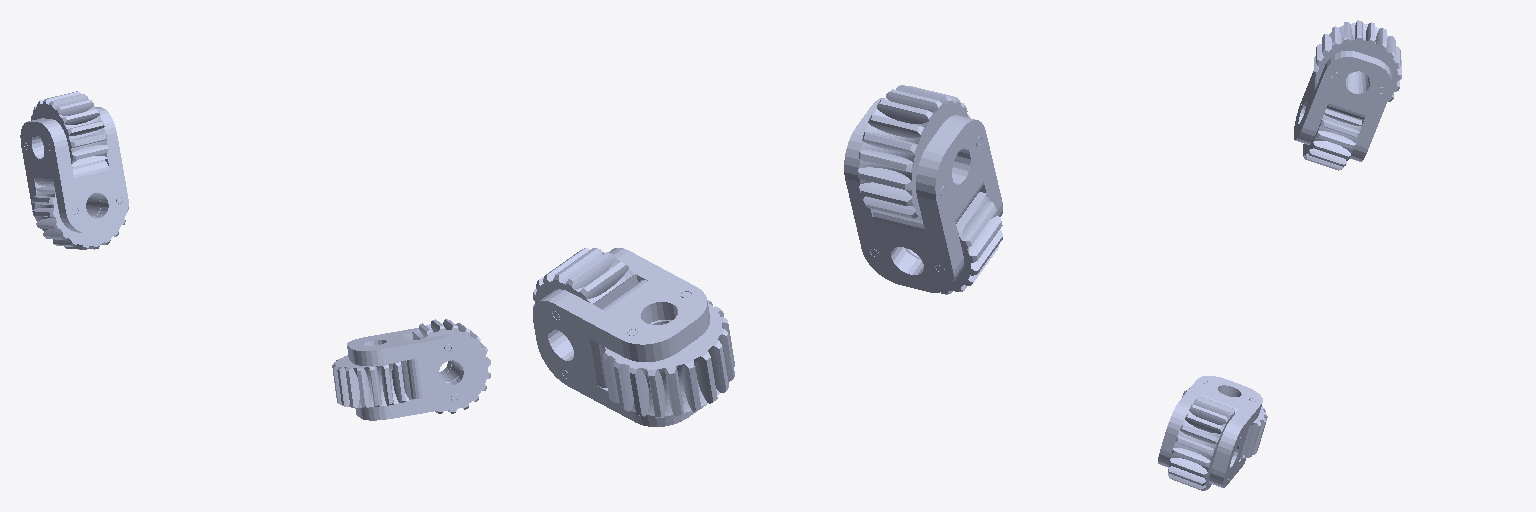
URDF robot description (HX01P1.2_URDF_2025_04_25_3):
<?xml version="1.0" encoding="utf-8"?>
<!-- This URDF was automatically created by SolidWorks to URDF Exporter! Originally created by [author] ([email redacted]) 
     Commit Version: 1.6.0-4-g7f85cfe  Build Version: 1.6.7995.38578
     For more information, please see http://wiki.ros.org/sw_urdf_exporter -->
<robot
  name="HX01P1.2_URDF_2025_04_25_3">
  <link
    name="base_link">
    <inertial>
      <origin
        xyz="-0.000143215433818502 0.0141338183242651 0.0442242892247222"
        rpy="0 0 0" />
      <mass
        value="0.411547465045791" />
      <inertia
        ixx="0.000457197745587714"
        ixy="-1.68236950016942E-05"
        ixz="-3.7829378099296E-06"
        iyy="0.000457189352520218"
        iyz="-0.000116176459874552"
        izz="0.000424192913814888" />
    </inertial>
    <visual>
      <origin
        xyz="0 0 0"
        rpy="0 0 0" />
      <geometry>
        <mesh
          filename="package://HX01P1.2_URDF_2025_04_25_3/meshes/base_link.STL" />
      </geometry>
      <material
        name="">
        <color
          rgba="0.101960784313725 0.101960784313725 0.101960784313725 1" />
      </material>
    </visual>
    <collision>
      <origin
        xyz="0 0 0"
        rpy="0 0 0" />
      <geometry>
        <mesh
          filename="package://HX01P1.2_URDF_2025_04_25_3/meshes/base_link.STL" />
      </geometry>
    </collision>
  </link>
  <link
    name="Finger1_MCP_Knuckel">
    <inertial>
      <origin
        xyz="0.00622692032838282 -0.00186429833300747 -4.94180068935646E-07"
        rpy="0 0 0" />
      <mass
        value="0.00436139838731622" />
      <inertia
        ixx="1.43474995442807E-07"
        ixy="4.90538082519748E-09"
        ixz="-5.0499675317499E-12"
        iyy="1.58377829536194E-07"
        iyz="8.28884757571336E-13"
        izz="1.59847556799014E-07" />
    </inertial>
    <visual>
      <origin
        xyz="0 0 0"
        rpy="0 0 0" />
      <geometry>
        <mesh
          filename="package://HX01P1.2_URDF_2025_04_25_3/meshes/Finger1_MCP_Knuckel.STL" />
      </geometry>
      <material
        name="">
        <color
          rgba="0.792156862745098 0.819607843137255 0.933333333333333 1" />
      </material>
    </visual>
    <collision>
      <origin
        xyz="0 0 0"
        rpy="0 0 0" />
      <geometry>
        <mesh
          filename="package://HX01P1.2_URDF_2025_04_25_3/meshes/Finger1_MCP_Knuckel.STL" />
      </geometry>
    </collision>
  </link>
  <joint
    name="joint#1_finger1_abad"
    type="revolute">
    <origin
      xyz="0.03 -0.00029814 0.050502"
      rpy="-0.2618 0 0" />
    <parent
      link="base_link" />
    <child
      link="Finger1_MCP_Knuckel" />
    <axis
      xyz="0 0 -1" />
    <limit
      lower="0"
      upper="1.4"
      effort="0"
      velocity="0" />
  </joint>
  <link
    name="Finger1_Proxi_Phalanx">
    <inertial>
      <origin
        xyz="8.03838731414271E-06 0.00199707444538672 0.0237369300504709"
        rpy="0 0 0" />
      <mass
        value="0.0202104831192896" />
      <inertia
        ixx="5.321271983334E-06"
        ixy="5.67331900582626E-10"
        ixz="2.38532838362171E-09"
        iyy="5.27227646915779E-06"
        iyz="9.63561735563733E-07"
        izz="2.75411859519785E-06" />
    </inertial>
    <visual>
      <origin
        xyz="0 0 0"
        rpy="0 0 0" />
      <geometry>
        <mesh
          filename="package://HX01P1.2_URDF_2025_04_25_3/meshes/Finger1_Proxi_Phalanx.STL" />
      </geometry>
      <material
        name="">
        <color
          rgba="0.792156862745098 0.819607843137255 0.933333333333333 1" />
      </material>
    </visual>
    <collision>
      <origin
        xyz="0 0 0"
        rpy="0 0 0" />
      <geometry>
        <mesh
          filename="package://HX01P1.2_URDF_2025_04_25_3/meshes/Finger1_Proxi_Phalanx.STL" />
      </geometry>
    </collision>
  </link>
  <joint
    name="joint#2_finger1_flex1"
    type="revolute">
    <origin
      xyz="0.012454 -0.0037276 0"
      rpy="-1.5708 0 -1.8616" />
    <parent
      link="Finger1_MCP_Knuckel" />
    <child
      link="Finger1_Proxi_Phalanx" />
    <axis
      xyz="1 0 0" />
    <limit
      lower="0"
      upper="2.1"
      effort="0"
      velocity="0" />
  </joint>
  <link
    name="Finger1_Dist_Phalanx">
    <inertial>
      <origin
        xyz="4.96788824266431E-05 -0.015858943696615 -0.0112156159807297"
        rpy="0 0 0" />
      <mass
        value="0.0176550775282583" />
      <inertia
        ixx="4.02686195586541E-06"
        ixy="8.87267349994332E-09"
        ixz="-4.88974539150869E-09"
        iyy="3.29025829246226E-06"
        iyz="-1.24019316269407E-06"
        izz="2.60041228704037E-06" />
    </inertial>
    <visual>
      <origin
        xyz="0 0 0"
        rpy="0 0 0" />
      <geometry>
        <mesh
          filename="package://HX01P1.2_URDF_2025_04_25_3/meshes/Finger1_Dist_Phalanx.STL" />
      </geometry>
      <material
        name="">
        <color
          rgba="0.792156862745098 0.819607843137255 0.933333333333333 1" />
      </material>
    </visual>
    <collision>
      <origin
        xyz="0 0 0"
        rpy="0 0 0" />
      <geometry>
        <mesh
          filename="package://HX01P1.2_URDF_2025_04_25_3/meshes/Finger1_Dist_Phalanx.STL" />
      </geometry>
    </collision>
  </link>
  <joint
    name="joint#3_finger1_flex2"
    type="revolute">
    <origin
      xyz="0 -0.014373 0.064593"
      rpy="-1.2747 0 0" />
    <parent
      link="Finger1_Proxi_Phalanx" />
    <child
      link="Finger1_Dist_Phalanx" />
    <axis
      xyz="-1 0 0" />
    <limit
      lower="0"
      upper="2.1"
      effort="0"
      velocity="0" />
  </joint>
  <link
    name="Finger2_Proxi_Phalanx">
    <inertial>
      <origin
        xyz="8.04448574115088E-06 0.0091375125667262 0.0219985390127726"
        rpy="0 0 0" />
      <mass
        value="0.020210475315763" />
      <inertia
        ixx="5.32127733054558E-06"
        ixy="1.26416201137071E-09"
        ixz="2.09727817015594E-09"
        iyy="5.59777205951082E-06"
        iyz="5.34444272839263E-08"
        izz="2.42862435983311E-06" />
    </inertial>
    <visual>
      <origin
        xyz="0 0 0"
        rpy="0 0 0" />
      <geometry>
        <mesh
          filename="package://HX01P1.2_URDF_2025_04_25_3/meshes/Finger2_Proxi_Phalanx.STL" />
      </geometry>
      <material
        name="">
        <color
          rgba="0.792156862745098 0.819607843137255 0.933333333333333 1" />
      </material>
    </visual>
    <collision>
      <origin
        xyz="0 0 0"
        rpy="0 0 0" />
      <geometry>
        <mesh
          filename="package://HX01P1.2_URDF_2025_04_25_3/meshes/Finger2_Proxi_Phalanx.STL" />
      </geometry>
    </collision>
  </link>
  <joint
    name="joint#4_finger2_flex1"
    type="revolute">
    <origin
      xyz="0.03 0.027125 0.10334"
      rpy="-0.34907 0 0" />
    <parent
      link="base_link" />
    <child
      link="Finger2_Proxi_Phalanx" />
    <axis
      xyz="1 0 0" />
    <limit
      lower="0"
      upper="2.1"
      effort="0"
      velocity="0" />
  </joint>
  <link
    name="Finger2_Dist_Phalanx">
    <inertial>
      <origin
        xyz="4.96543147745637E-05 0.00714087589106065 0.0180640063475071"
        rpy="0 0 0" />
      <mass
        value="0.017655175308132" />
      <inertia
        ixx="4.02689920264768E-06"
        ixy="-1.01046485372328E-08"
        ixz="-7.46802878445245E-10"
        iyy="4.21968941110657E-06"
        iyz="-1.82117885239304E-07"
        izz="1.67102281536553E-06" />
    </inertial>
    <visual>
      <origin
        xyz="0 0 0"
        rpy="0 0 0" />
      <geometry>
        <mesh
          filename="package://HX01P1.2_URDF_2025_04_25_3/meshes/Finger2_Dist_Phalanx.STL" />
      </geometry>
      <material
        name="">
        <color
          rgba="0.792156862745098 0.819607843137255 0.933333333333333 1" />
      </material>
    </visual>
    <collision>
      <origin
        xyz="0 0 0"
        rpy="0 0 0" />
      <geometry>
        <mesh
          filename="package://HX01P1.2_URDF_2025_04_25_3/meshes/Finger2_Dist_Phalanx.STL" />
      </geometry>
    </collision>
  </link>
  <joint
    name="joint#5_finger2_flex2"
    type="revolute">
    <origin
      xyz="0 0.006 0.0659"
      rpy="0 0 0" />
    <parent
      link="Finger2_Proxi_Phalanx" />
    <child
      link="Finger2_Dist_Phalanx" />
    <axis
      xyz="-1 0 0" />
    <limit
      lower="0"
      upper="2.1"
      effort="0"
      velocity="0" />
  </joint>
  <link
    name="Finger3_MCP_Knuckel">
    <inertial>
      <origin
        xyz="4.9575760330961E-07 4.95757603160424E-07 0.00650000000000001"
        rpy="0 0 0" />
      <mass
        value="0.00436140331617378" />
      <inertia
        ixx="1.59847453396862E-07"
        ixy="-7.49873788616636E-13"
        ixz="-5.07470404925745E-12"
        iyy="1.59847453396862E-07"
        iyz="5.0747040492625E-12"
        izz="1.42005296546262E-07" />
    </inertial>
    <visual>
      <origin
        xyz="0 0 0"
        rpy="0 0 0" />
      <geometry>
        <mesh
          filename="package://HX01P1.2_URDF_2025_04_25_3/meshes/Finger3_MCP_Knuckel.STL" />
      </geometry>
      <material
        name="">
        <color
          rgba="0.792156862745098 0.819607843137255 0.933333333333333 1" />
      </material>
    </visual>
    <collision>
      <origin
        xyz="0 0 0"
        rpy="0 0 0" />
      <geometry>
        <mesh
          filename="package://HX01P1.2_URDF_2025_04_25_3/meshes/Finger3_MCP_Knuckel.STL" />
      </geometry>
    </collision>
  </link>
  <joint
    name="joint#6_finger3_abad"
    type="revolute">
    <origin
      xyz="-0.024 0.022678 0.091124"
      rpy="-0.34907 0 0" />
    <parent
      link="base_link" />
    <child
      link="Finger3_MCP_Knuckel" />
    <axis
      xyz="0 1 0" />
    <limit
      lower="-0.79"
      upper="0.26"
      effort="0"
      velocity="0" />
  </joint>
  <link
    name="Finger3_Proxi_Phalanx">
    <inertial>
      <origin
        xyz="8.04117973510904E-06 0.0100165249953892 0.0216124776566759"
        rpy="0 0 0" />
      <mass
        value="0.0202104720704891" />
      <inertia
        ixx="5.32127708117865E-06"
        ixy="1.34776056207348E-09"
        ixz="2.04474931025202E-09"
        iyy="5.59692981103583E-06"
        iyz="-7.4326508231126E-08"
        izz="2.42946644189107E-06" />
    </inertial>
    <visual>
      <origin
        xyz="0 0 0"
        rpy="0 0 0" />
      <geometry>
        <mesh
          filename="package://HX01P1.2_URDF_2025_04_25_3/meshes/Finger3_Proxi_Phalanx.STL" />
      </geometry>
      <material
        name="">
        <color
          rgba="0.792156862745098 0.819607843137255 0.933333333333333 1" />
      </material>
    </visual>
    <collision>
      <origin
        xyz="0 0 0"
        rpy="0 0 0" />
      <geometry>
        <mesh
          filename="package://HX01P1.2_URDF_2025_04_25_3/meshes/Finger3_Proxi_Phalanx.STL" />
      </geometry>
    </collision>
  </link>
  <joint
    name="joint#7_finger3_flex1"
    type="revolute">
    <origin
      xyz="0 0 0.013"
      rpy="0 0 0" />
    <parent
      link="Finger3_MCP_Knuckel" />
    <child
      link="Finger3_Proxi_Phalanx" />
    <axis
      xyz="1 0 0" />
    <limit
      lower="0"
      upper="2.1"
      effort="0"
      velocity="0" />
  </joint>
  <link
    name="Finger3_Dist_Phalanx">
    <inertial>
      <origin
        xyz="4.96543147664001E-05 0.00640718478870799 0.0183370776542784"
        rpy="0 0 0" />
      <mass
        value="0.017655175308132" />
      <inertia
        ixx="4.02689920264773E-06"
        ixy="-1.00663492422049E-08"
        ixz="-1.15336444118466E-09"
        iyy="4.23021615454477E-06"
        iyz="-7.89110412665249E-08"
        izz="1.66049607192739E-06" />
    </inertial>
    <visual>
      <origin
        xyz="0 0 0"
        rpy="0 0 0" />
      <geometry>
        <mesh
          filename="package://HX01P1.2_URDF_2025_04_25_3/meshes/Finger3_Dist_Phalanx.STL" />
      </geometry>
      <material
        name="">
        <color
          rgba="0.792156862745098 0.819607843137255 0.933333333333333 1" />
      </material>
    </visual>
    <collision>
      <origin
        xyz="0 0 0"
        rpy="0 0 0" />
      <geometry>
        <mesh
          filename="package://HX01P1.2_URDF_2025_04_25_3/meshes/Finger3_Dist_Phalanx.STL" />
      </geometry>
    </collision>
  </link>
  <joint
    name="joint#8_finger3_flex2"
    type="revolute">
    <origin
      xyz="0 0.0086506 0.065605"
      rpy="-0.040306 0 0" />
    <parent
      link="Finger3_Proxi_Phalanx" />
    <child
      link="Finger3_Dist_Phalanx" />
    <axis
      xyz="-1 0 0" />
    <limit
      lower="0"
      upper="2.1"
      effort="0"
      velocity="0" />
  </joint>
</robot>

--- Facts derived from the render (not from the file) ---
Views: 3 orthographic renders of the robot side by side, from view 1: azimuth 30°, elevation 25°; view 2: azimuth 150°, elevation 25°; view 3: azimuth 270°, elevation 25°.
Robot: HX01P1.2_URDF_2025_04_25_3 — 9 links, 8 joints (8 revolute); root link base_link; default pose: all joints at 0.
Visible links, largest first — view 1: Finger3_MCP_Knuckel, Finger1_MCP_Knuckel; view 2: Finger1_MCP_Knuckel, Finger3_MCP_Knuckel; view 3: Finger3_MCP_Knuckel, Finger1_MCP_Knuckel.
Boxes of the visible links, <box> form: Finger3_MCP_Knuckel: <box>20,91,128,249</box>; Finger1_MCP_Knuckel: <box>332,319,490,420</box>; Finger1_MCP_Knuckel: <box>533,248,734,426</box>; Finger3_MCP_Knuckel: <box>844,85,1002,294</box>; Finger3_MCP_Knuckel: <box>1294,20,1401,170</box>; Finger1_MCP_Knuckel: <box>1158,376,1267,490</box>.
Size in the robot's own frame: 0.0847 by 0.0487 by 0.0702 metres.
2 mesh visuals loaded from 9 distinct referenced files (2 binary STL); not drawn: 7 (reference not matched to a file when rendering).